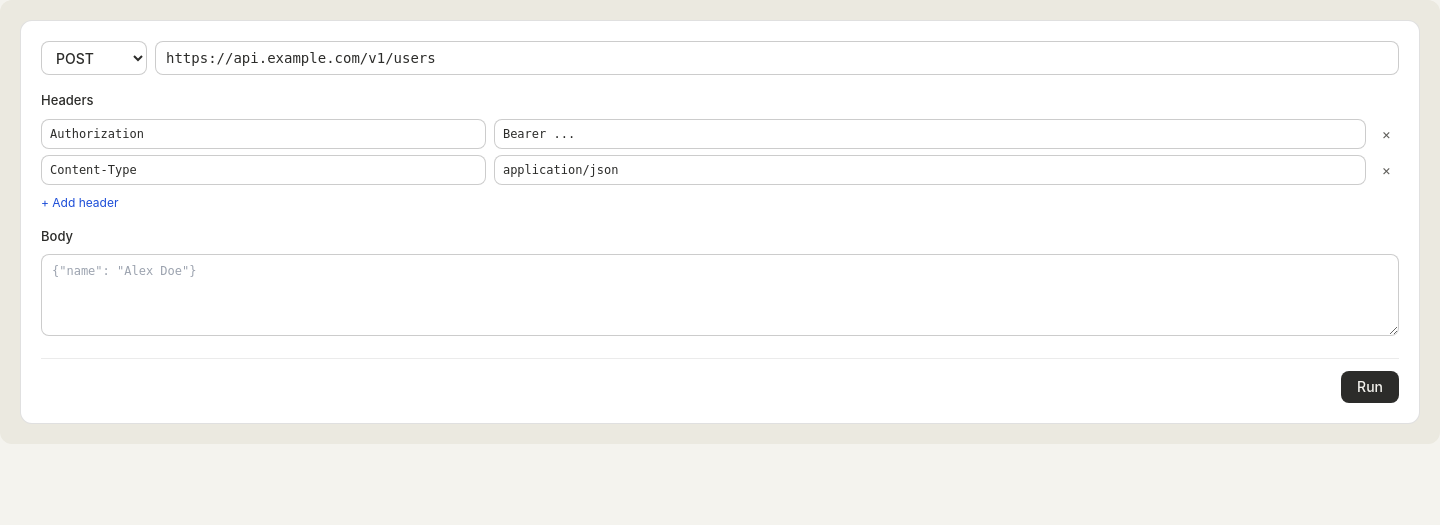
RequestComposer › shows an error when the API responds non-2xx
Step 1. Click the button "Run" → click(1370, 387), box [1341,371,1399,403]
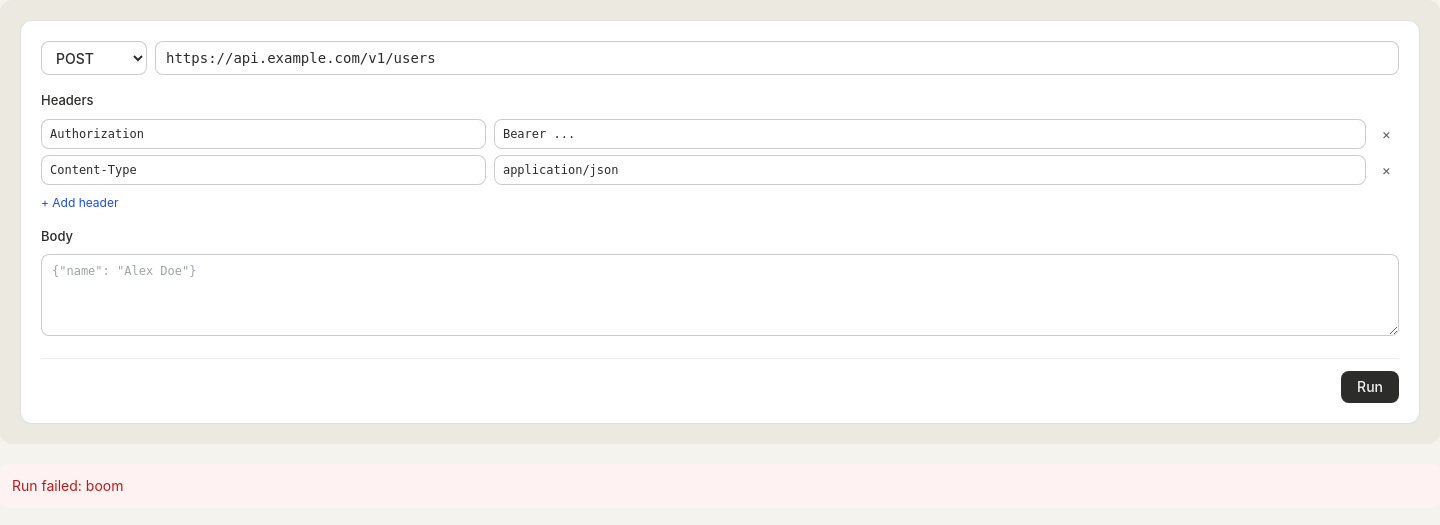
Expected: the text "Run failed: boom" is shown, [0,464,1439,508]
